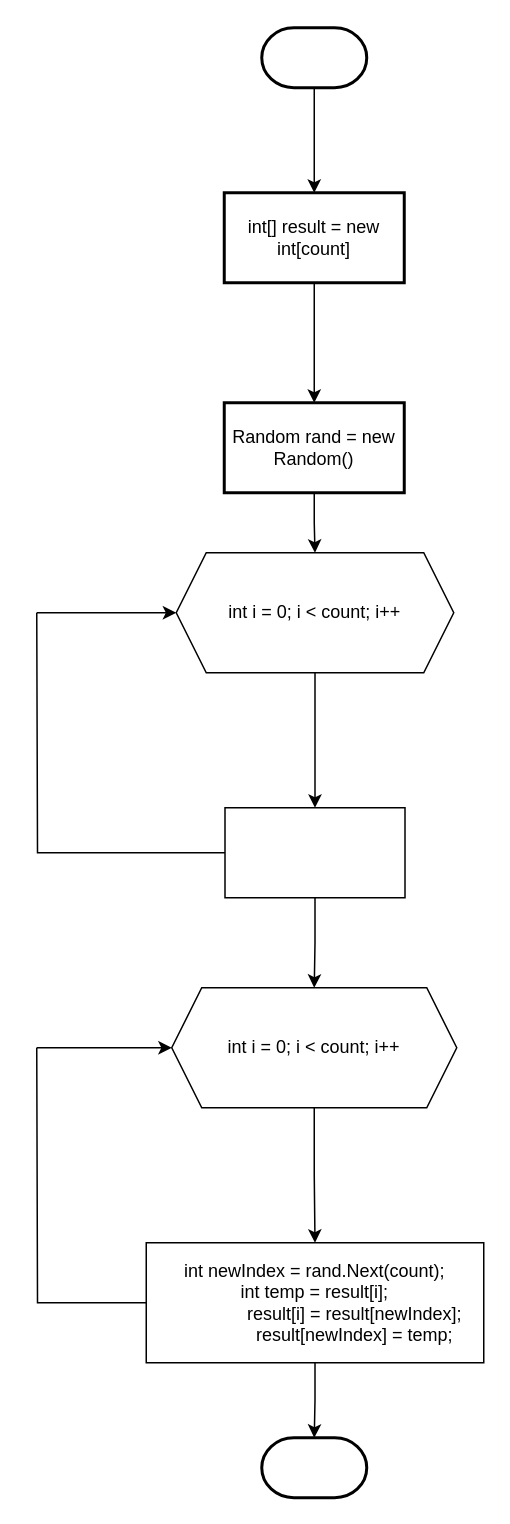
The diagram is 510 pixels wide and 1524 high, and some of its shapes have lost their labels. Here are the shapes that lost their labels. From the top down, the box of each, then its label:
(260, 26, 368, 88): start
(224, 806, 405, 898): result[i] = i
(260, 1436, 368, 1498): end
